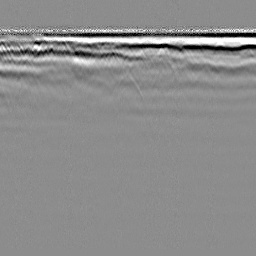cavity: (110, 69, 144, 99)
